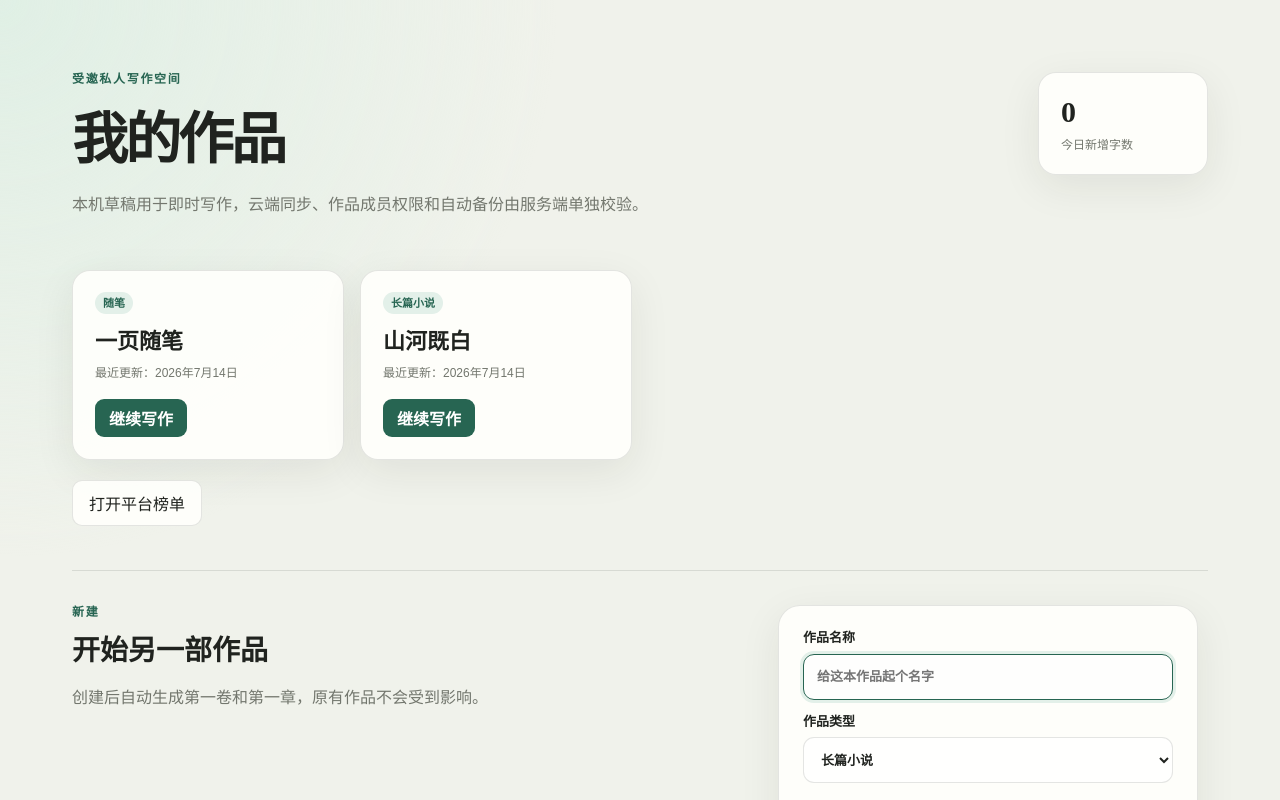
WritingStudio › shows every existing work on a dashboard and opens the selected work
The width and height of the screenshot is (1280, 800).
Expected: the heading "我的作品" is shown, [72, 109, 284, 171]
Expected: the heading "山河既白" is shown, [383, 329, 471, 354]
Click the button with aria-label "继续写作：山河既白": coordinates (429, 418) [383, 399, 475, 437]
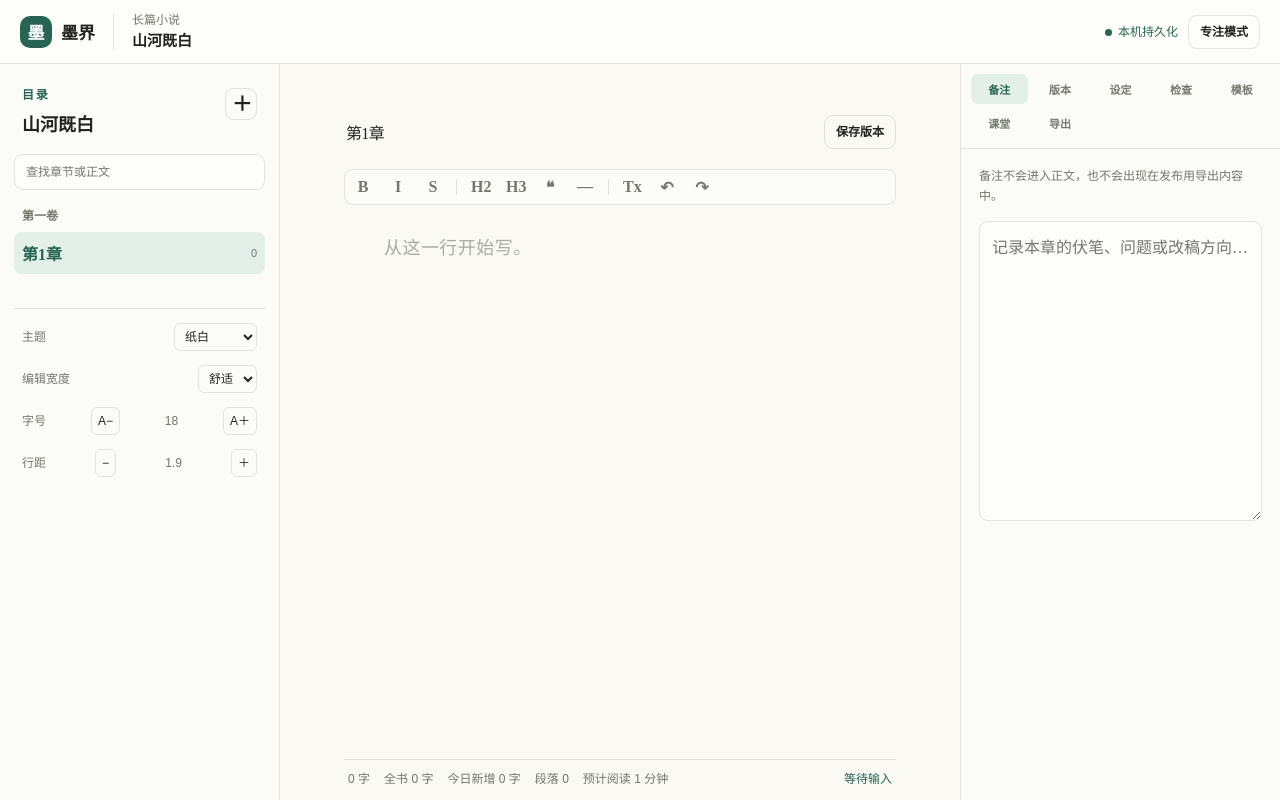
Expected: the heading "第一卷" is shown, [22, 209, 58, 223]
Expected: the field named "正文内容" is shown, [344, 219, 896, 759]
Expected: the text "山河既白" is shown, [132, 29, 192, 50]
